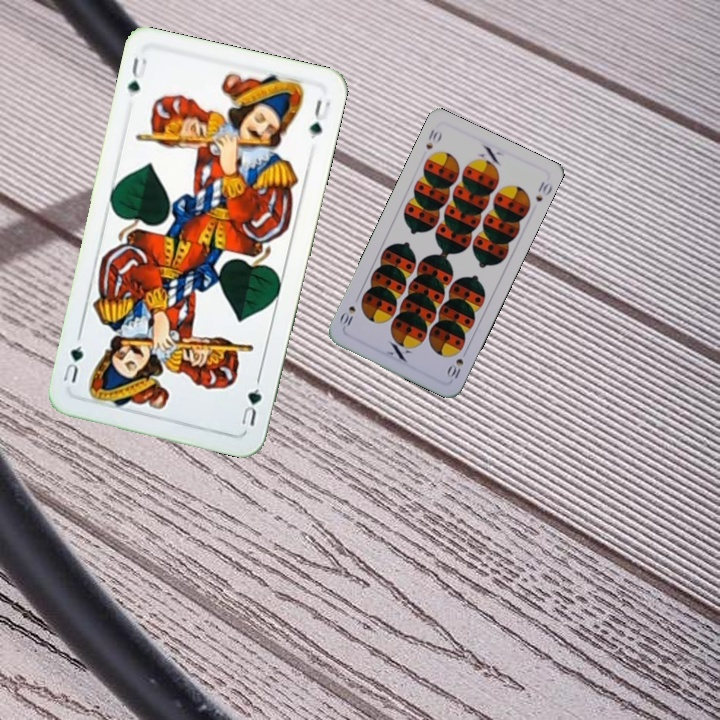GU: (237, 374, 265, 429), (123, 52, 150, 100)
S10: (442, 354, 466, 383), (422, 125, 445, 152)
